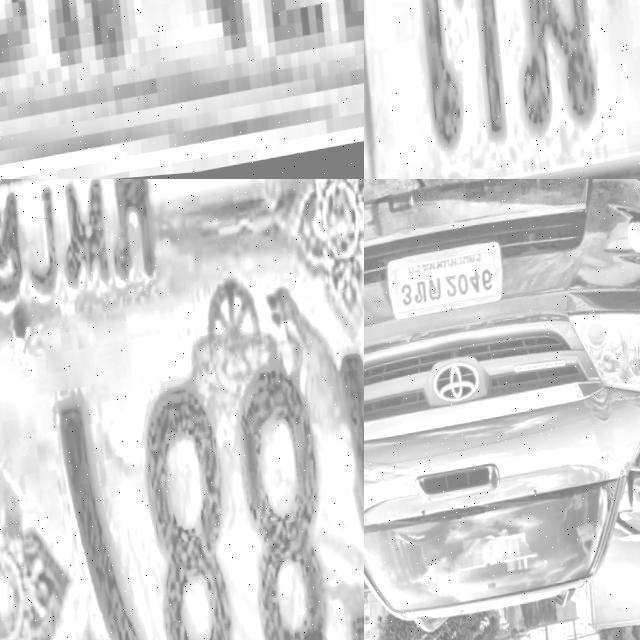license-plate: (0, 179, 364, 640), (0, 0, 364, 179), (364, 0, 640, 179), (385, 242, 505, 327)
